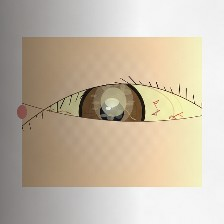corneal_ulcer: (90, 83, 137, 121)
